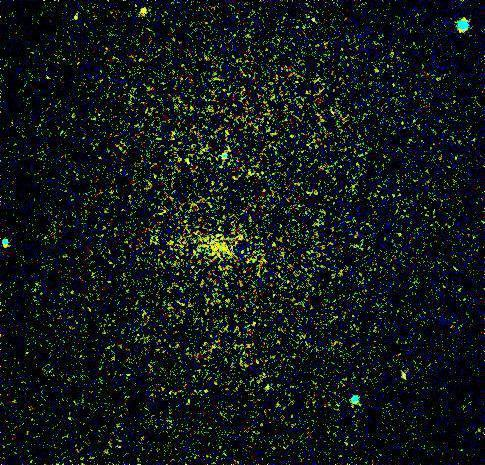star: (128, 0, 158, 25)
